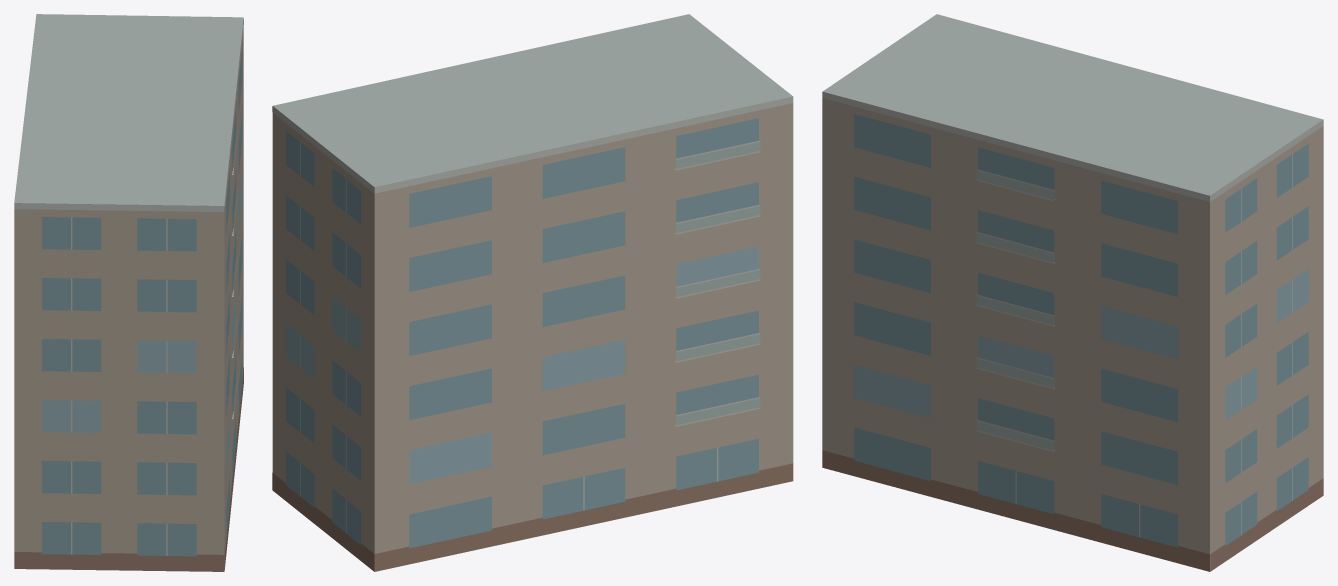
File: survey-upis-32887473.glb
The picture shows the model from 3 angles, left to right: view 1: azimuth 30°, elevation 25°; view 2: azimuth 150°, elevation 25°; view 3: azimuth 270°, elevation 25°; orthographic projection. The views are drawn at different scales.
Parts seen in each view (by area): view 1: survey-upis-32887473.tmp; view 2: survey-upis-32887473.tmp; view 3: survey-upis-32887473.tmp.
Part boxes in pixels (left/top/right/bottom): survey-upis-32887473.tmp: left=14, top=14, right=243, bottom=571; survey-upis-32887473.tmp: left=272, top=14, right=793, bottom=571; survey-upis-32887473.tmp: left=822, top=14, right=1323, bottom=571.
Bounding box in the file's own units: 15.06 × 14.52 × 17.54.
